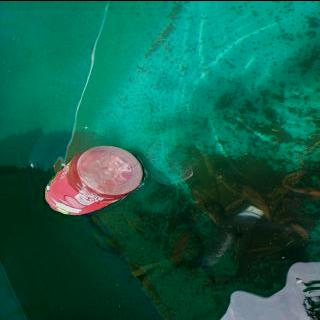bottle: (42, 144, 144, 215)
